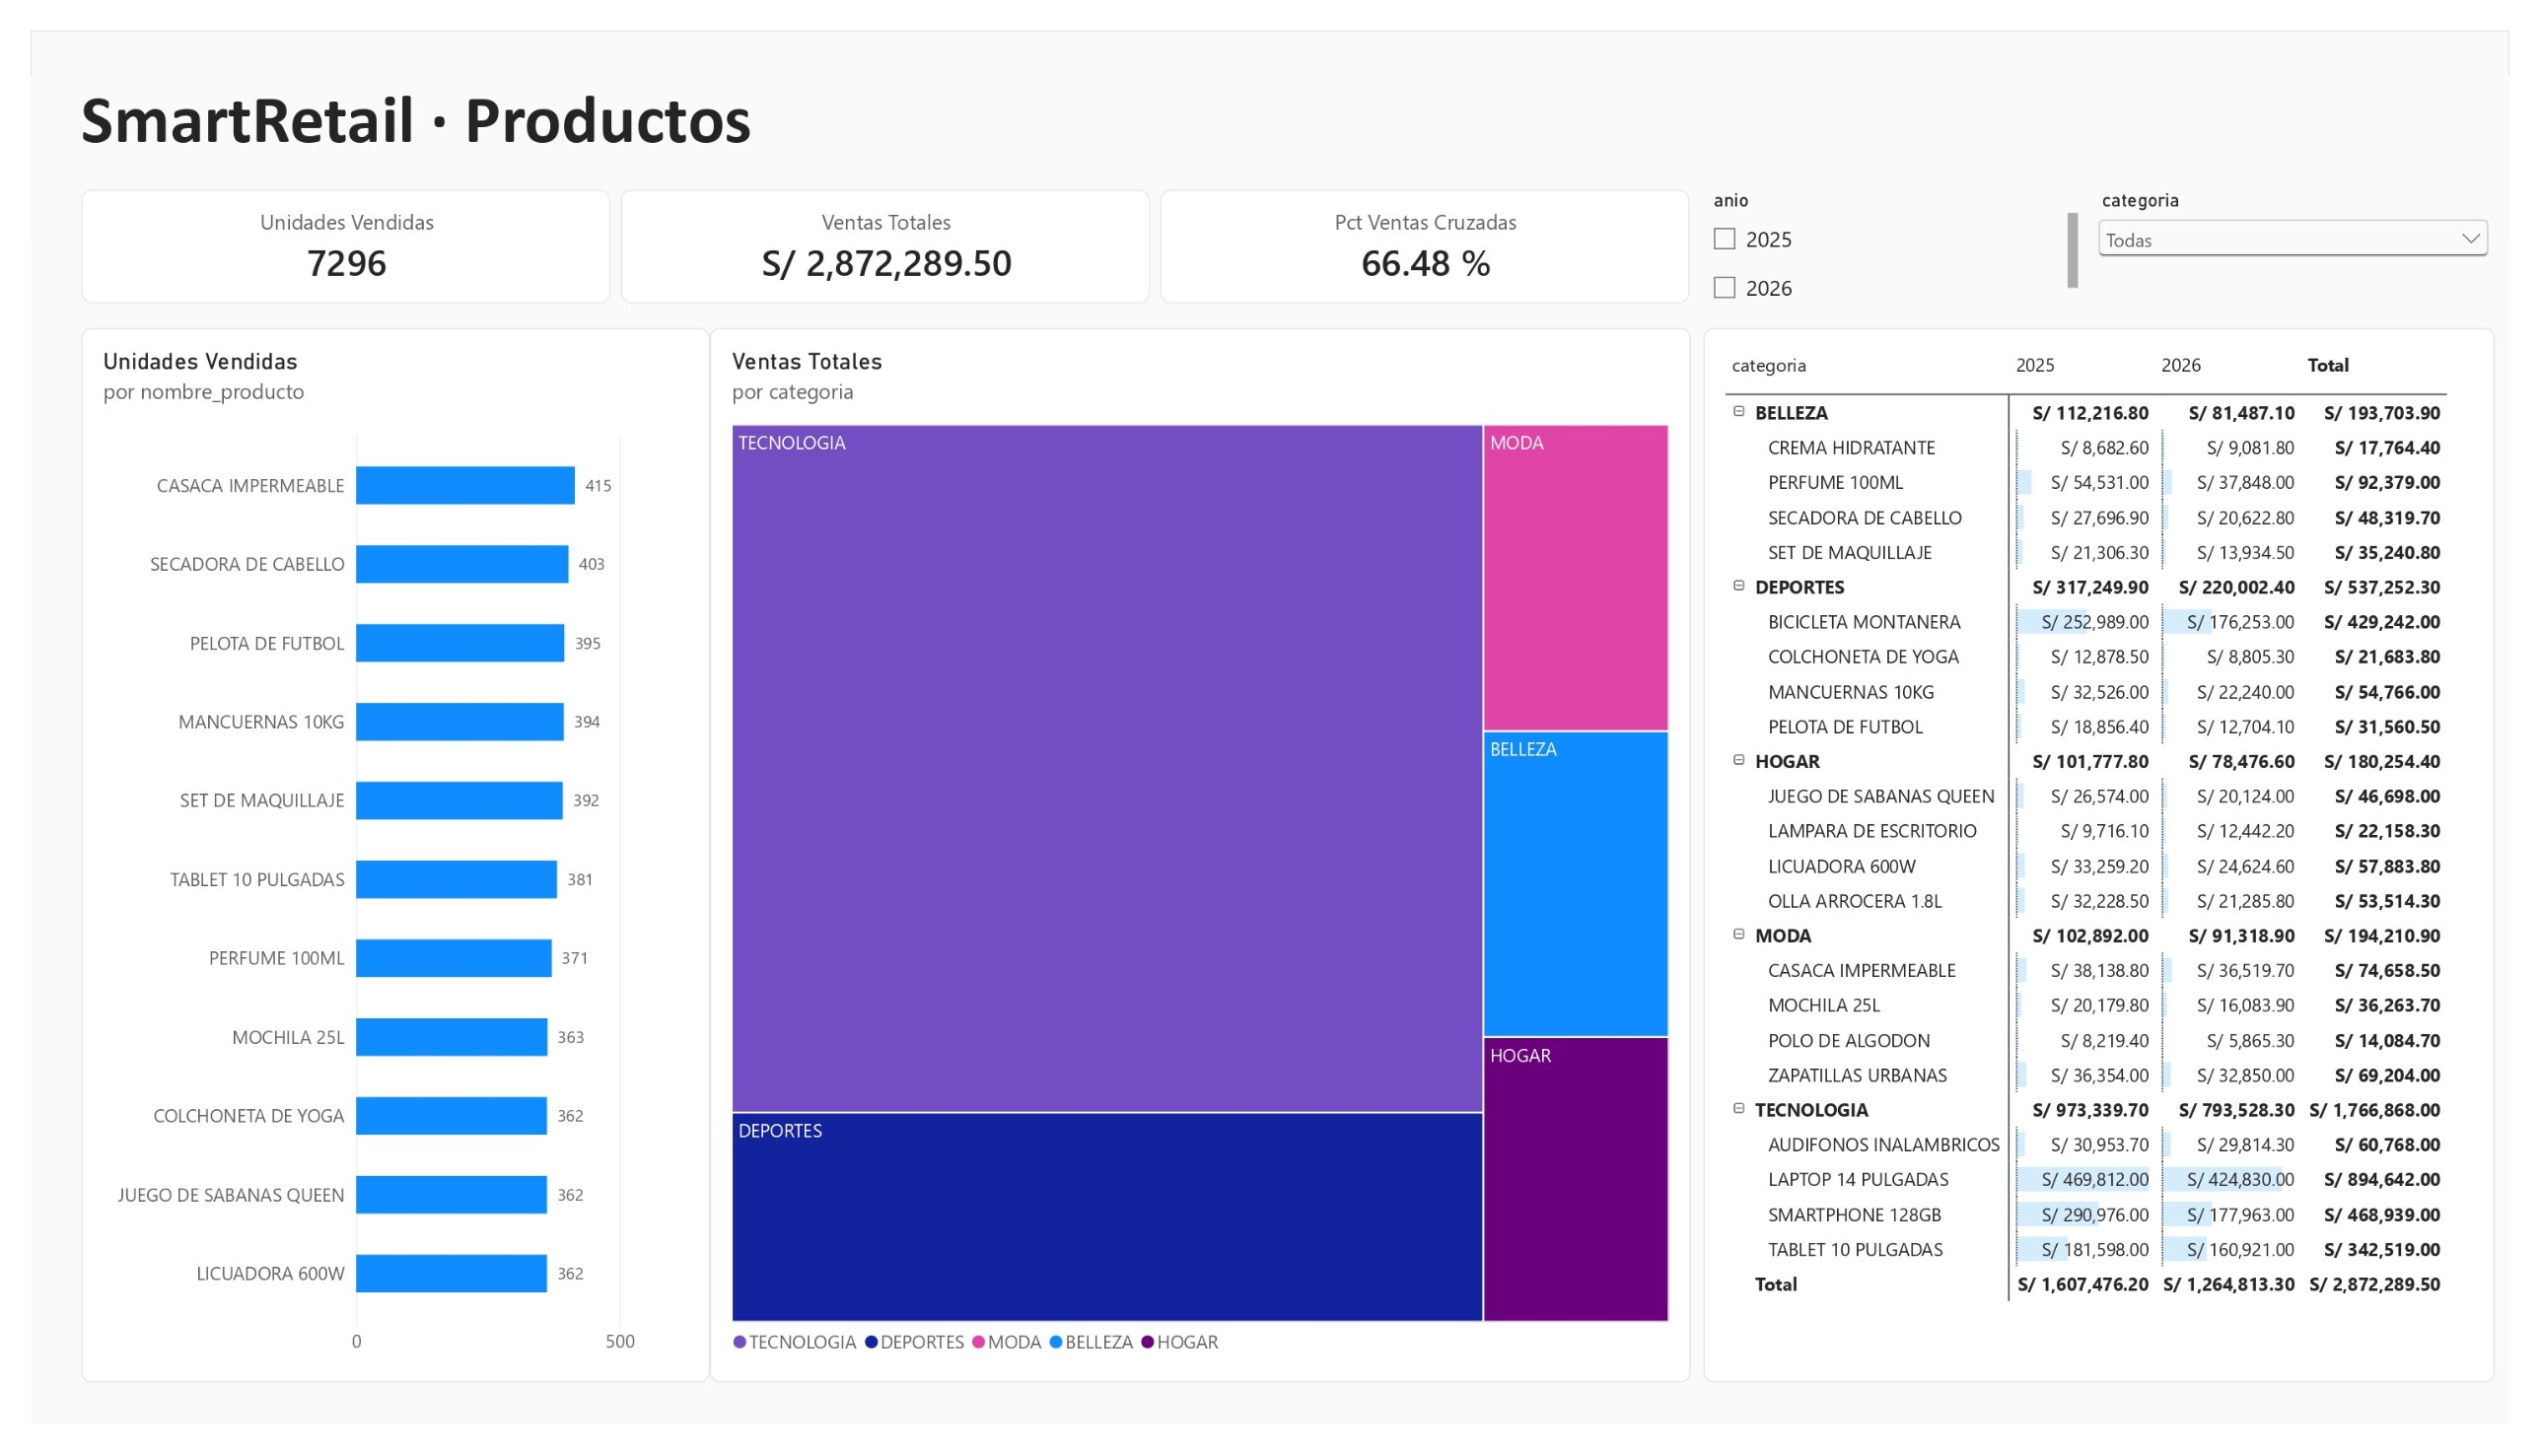

The page's visual inventory and layout, read from the dashboard file:
{"tool":"powerbi","page":{"name":"Productos","canvas":[1920,1080],"ordinal":1},"visuals":[{"type":"textbox","box":[39.4,34.7,732.4,75.6],"z":0},{"type":"cardVisual","fields":{"Data":["Fact_Ventas_Envios.Unidades Vendidas","Fact_Ventas_Envios.Ventas Totales","Fact_Ventas_Envios.Pct Ventas Cruzadas"]},"box":[39.4,122.9,1247.4,88.2],"z":1},{"type":"clusteredBarChart","fields":{"Category":["Dim_Producto.nombre_producto"],"Y":["Fact_Ventas_Envios.Unidades Vendidas"]},"box":[39.4,230,486.7,817.5],"z":2},{"type":"treemap","fields":{"Group":["Dim_Producto.Catalogo.categoria","Dim_Producto.Catalogo.nombre_producto"],"Values":["Fact_Ventas_Envios.Ventas Totales"]},"box":[526,230,760,817],"z":3},{"type":"pivotTable","fields":{"Columns":["Dim_Tiempo.anio"],"Rows":["Dim_Producto.Catalogo.categoria","Dim_Producto.Catalogo.nombre_producto"],"Values":["Fact_Ventas_Envios.Ventas Totales"]},"box":[1296.3,230,612.7,817.5],"z":4},{"type":"slicer","fields":{"Values":["Dim_Tiempo.anio"]},"box":[1296.3,122.9,289.8,88.2],"z":5},{"type":"slicer","fields":{"Values":["Dim_Producto.categoria"]},"box":[1597.1,122.9,311.9,88.2],"z":6}]}

Visuals, with their boxes in screenshot pixels (x1, y1, x2, y2), scaled from the page's 1920x1080 canvas onto the 2540x1456 screenshot:
textbox: l=52, t=46, r=1021, b=149
cardVisual - Fact_Ventas_Envios.Unidades Vendidas x Fact_Ventas_Envios.Ventas Totales: l=52, t=166, r=1702, b=285
clusteredBarChart - Dim_Producto.nombre_producto x Fact_Ventas_Envios.Unidades Vendidas: l=52, t=311, r=696, b=1413
treemap - Dim_Producto.Catalogo.categoria x Dim_Producto.Catalogo.nombre_producto: l=696, t=311, r=1701, b=1412
pivotTable - Dim_Tiempo.anio x Dim_Producto.Catalogo.categoria: l=1715, t=311, r=2525, b=1413
slicer - Dim_Tiempo.anio: l=1715, t=166, r=2098, b=285
slicer - Dim_Producto.categoria: l=2113, t=166, r=2525, b=285
